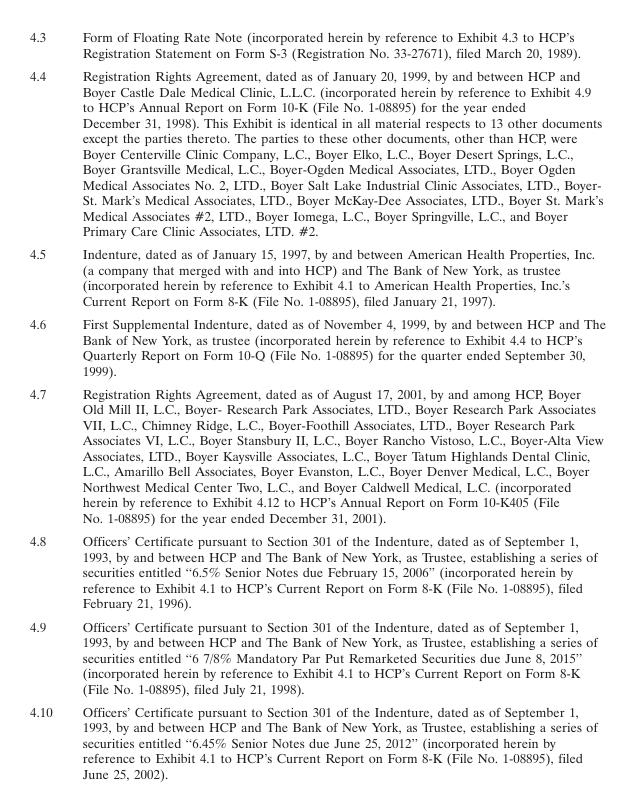table: (29, 28, 605, 781)
table column: (66, 28, 605, 781), (29, 28, 66, 781)
table row: (29, 63, 605, 242), (29, 381, 605, 529), (29, 529, 605, 614), (29, 614, 605, 699), (29, 699, 605, 781), (29, 311, 605, 381), (29, 242, 605, 311), (29, 28, 605, 63)
